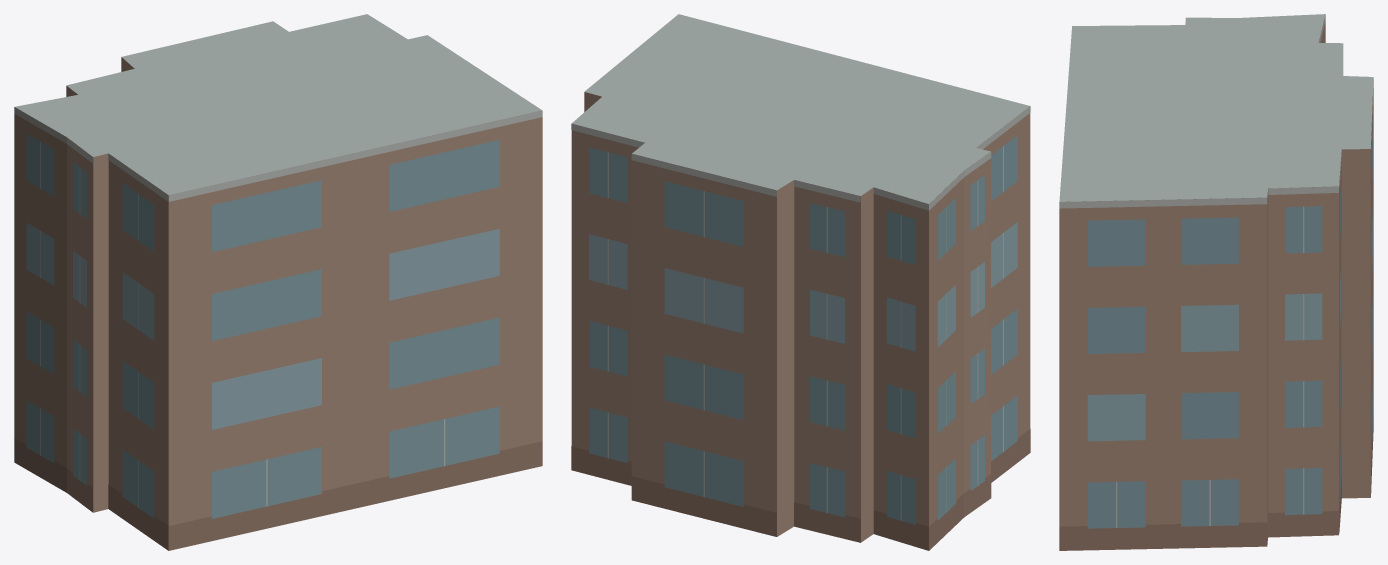
Rendered from survey-upis-32755377.glb.
3 views of the same model, side by side, from view 1: azimuth 30°, elevation 25°; view 2: azimuth 150°, elevation 25°; view 3: azimuth 270°, elevation 25° (orthographic). The views are drawn at different scales.
Visible parts, largest first — view 1: survey-upis-32755377.tmp; view 2: survey-upis-32755377.tmp; view 3: survey-upis-32755377.tmp.
Part boxes in pixels (box(x1,y1,x2,y2)): survey-upis-32755377.tmp: box(14, 14, 542, 550); survey-upis-32755377.tmp: box(571, 14, 1030, 550); survey-upis-32755377.tmp: box(1059, 14, 1373, 550).
Size of the model in its own units: 14.91 by 12.9 by 10.54.
